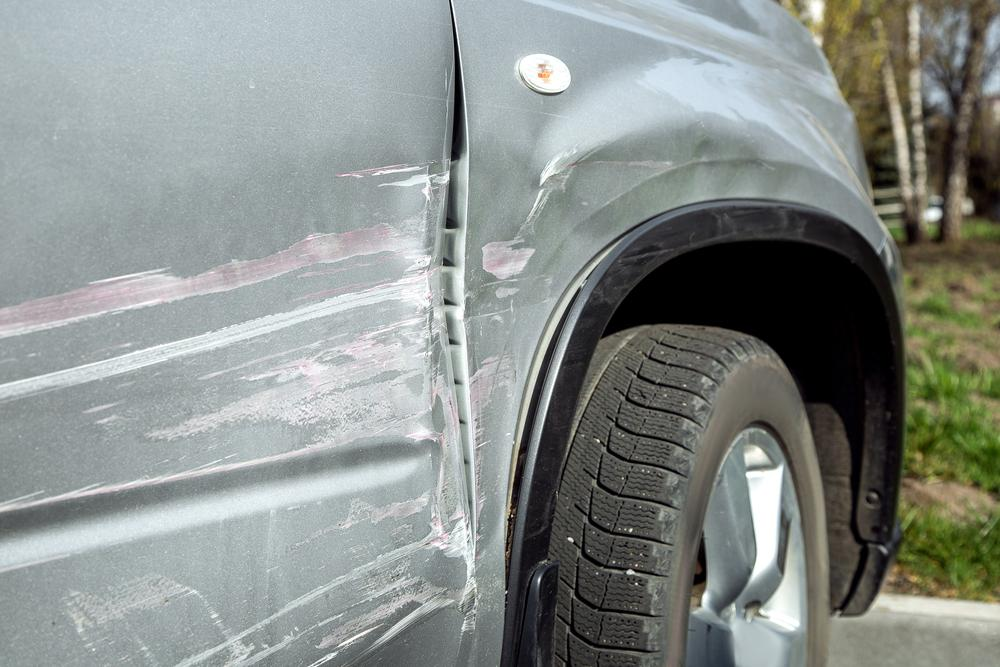dent: (465, 120, 793, 451)
scratch: (0, 152, 486, 667)
